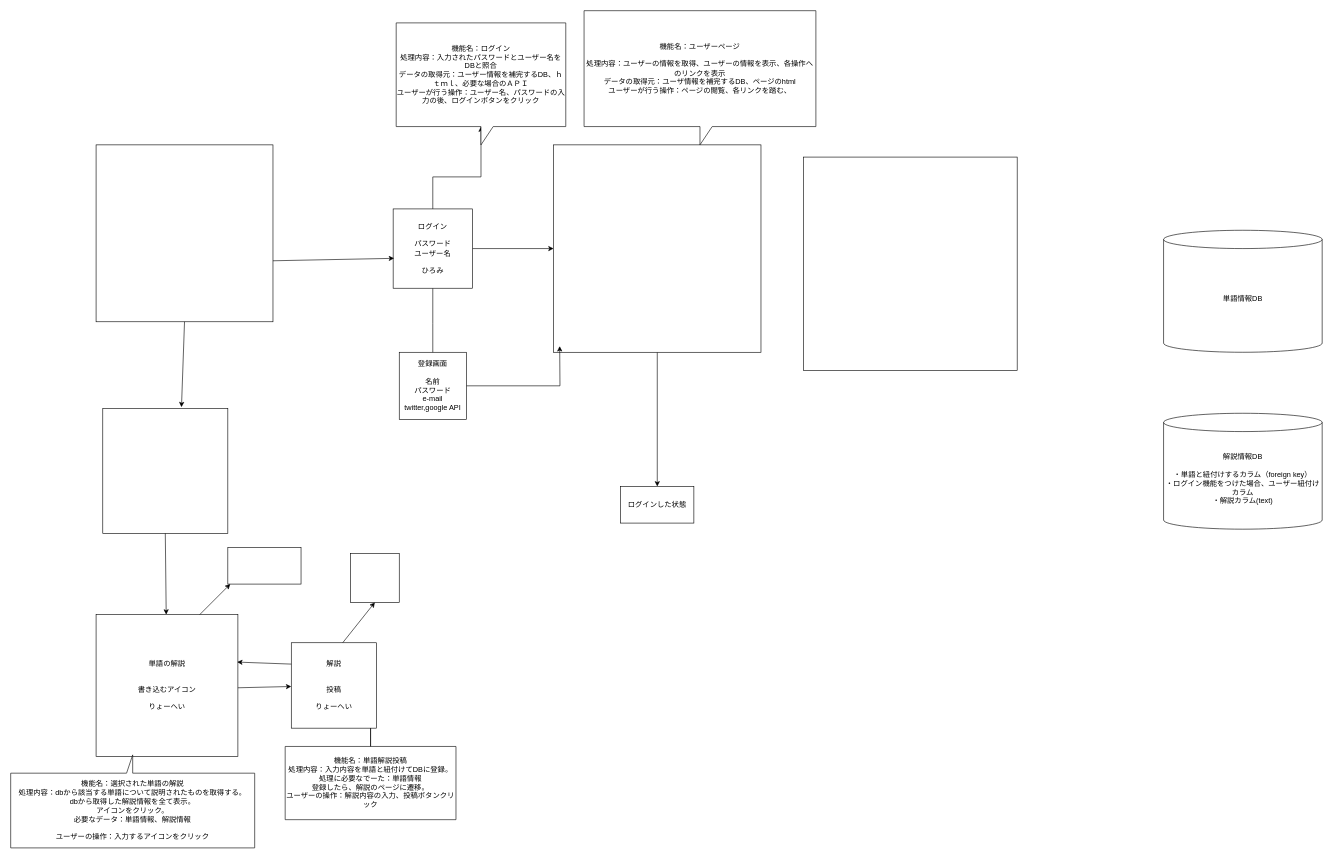
Some shapes in this 1333 by 859 pixel diagram are drawn without their labels. The centre of each missing label's shape, as x and y in pixels:
"dbへ検索" goes at [264,565].
"dbへ登録" goes at [374,577].
"ホーム画面 検索窓 単語がずらり ひらまつ" goes at [184,233].
"ユーザーページ ユーザー名 過去の投稿一覧 ログアウト s" goes at [657,248].
"単語 解説 解説 解説 ひらまつ" goes at [165,470].
"機能名 処理内容 処理に必要なデータ データの取得元 ユーザーが行い操作" goes at [910,263].
